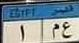1: (20, 23, 27, 43)
ع: (60, 19, 72, 37)
م: (49, 22, 59, 41)
